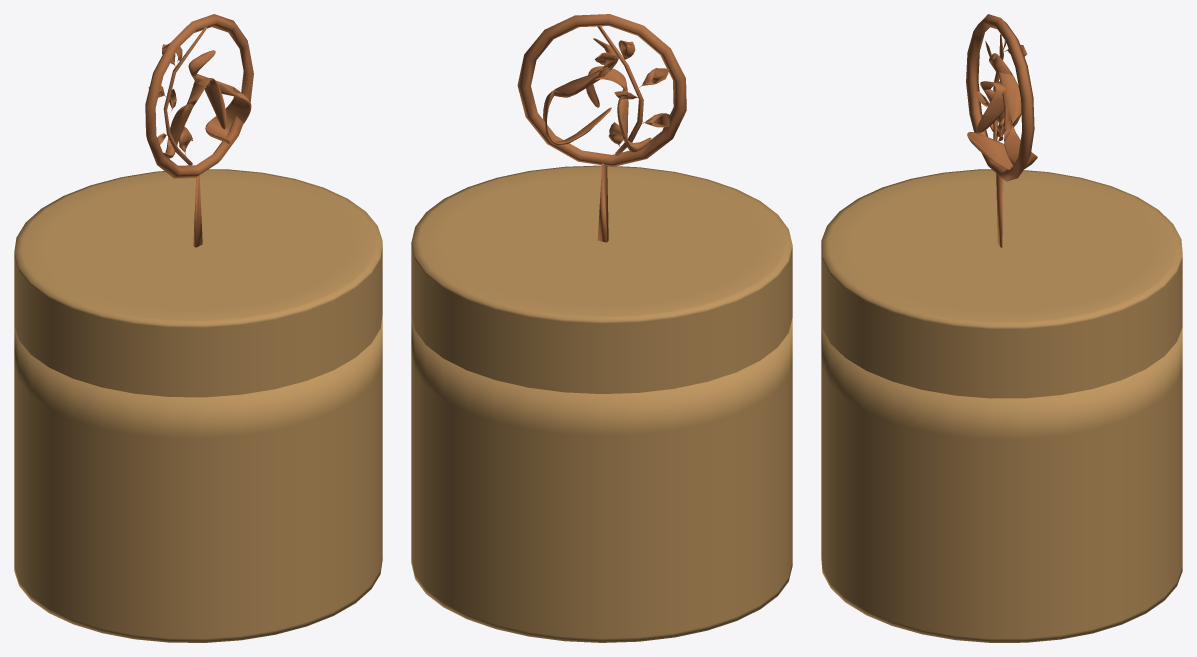
The model's file is 1-tier-caramel-none-ring.glb.
3 renders of one model, left to right at view 1: azimuth 30°, elevation 25°; view 2: azimuth 150°, elevation 25°; view 3: azimuth 270°, elevation 25°, orthographic.
Parts seen in each view (by area): view 1: Cylinder.019, Cylinder.017; view 2: Cylinder.019, Cylinder.017; view 3: Cylinder.019, Cylinder.017.
Boxes of the visible parts, x1,y1,x2,y2 form: Cylinder.019: [14, 169, 382, 642]; Cylinder.017: [145, 14, 253, 247]; Cylinder.019: [411, 165, 792, 642]; Cylinder.017: [517, 14, 686, 242]; Cylinder.019: [821, 169, 1182, 642]; Cylinder.017: [966, 14, 1037, 247].
Size of the model in its own units: 2.63 by 4.23 by 2.55.
